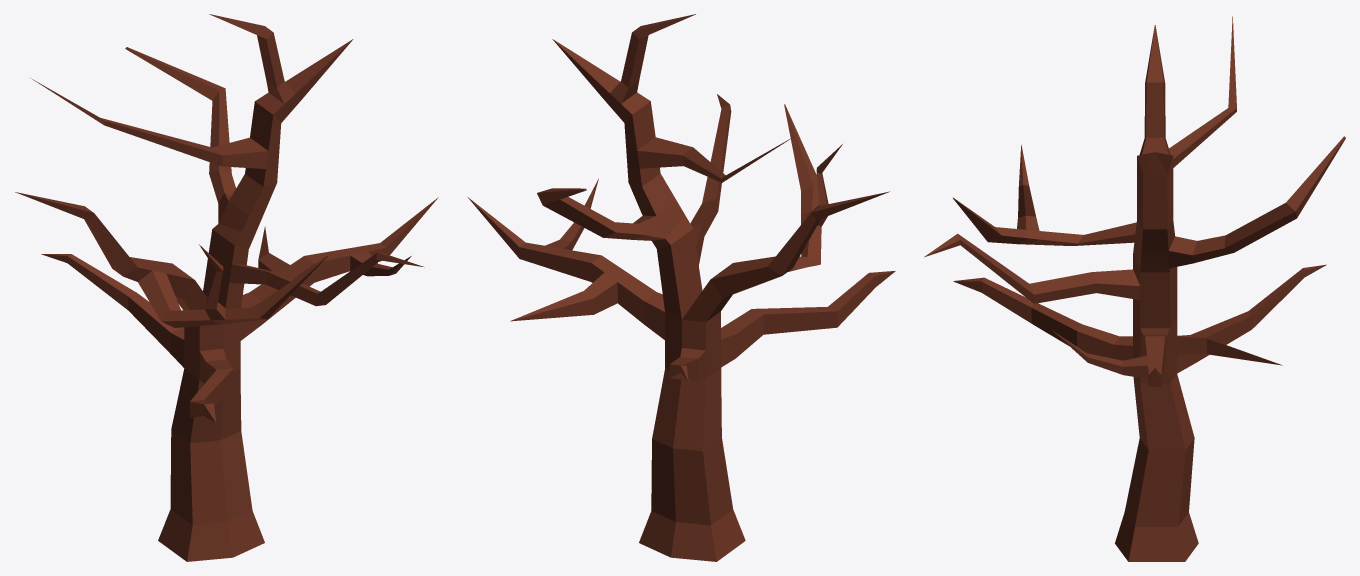
The model's file is tree1.fbx.
The picture shows the model from 3 angles, left to right: view 1: azimuth 30°, elevation 25°; view 2: azimuth 150°, elevation 25°; view 3: azimuth 270°, elevation 25°; orthographic projection. The views are drawn at different scales.
Parts seen in each view (by area): view 1: Cube; view 2: Cube; view 3: Cube.
Boxes of the visible parts, bbox=[...] form: Cube: bbox=[15, 14, 438, 561]; Cube: bbox=[467, 14, 895, 561]; Cube: bbox=[924, 16, 1345, 561].
Bounding box in the file's own units: 830 × 989 × 731.
